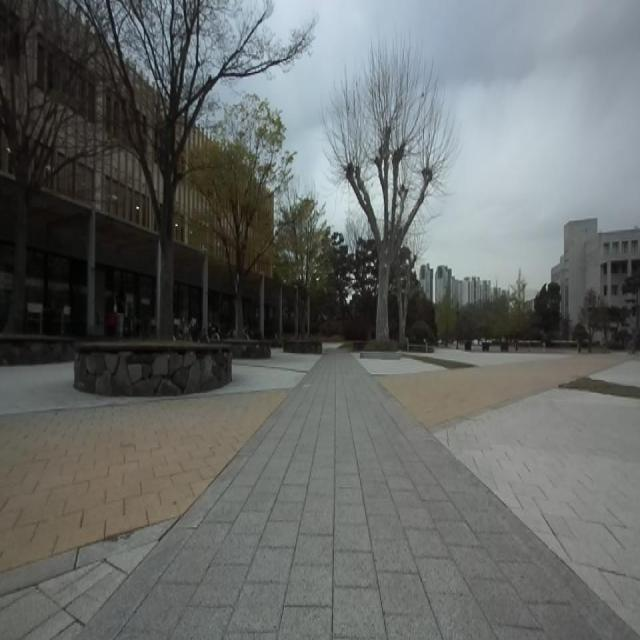sidewalk: (80, 353, 637, 639)
